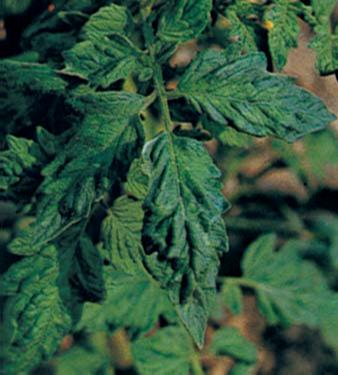Tomato leaf mosaic virus: (130, 137, 229, 343), (30, 88, 150, 244), (0, 226, 102, 373), (178, 51, 327, 147), (52, 43, 155, 86), (148, 0, 210, 52)
